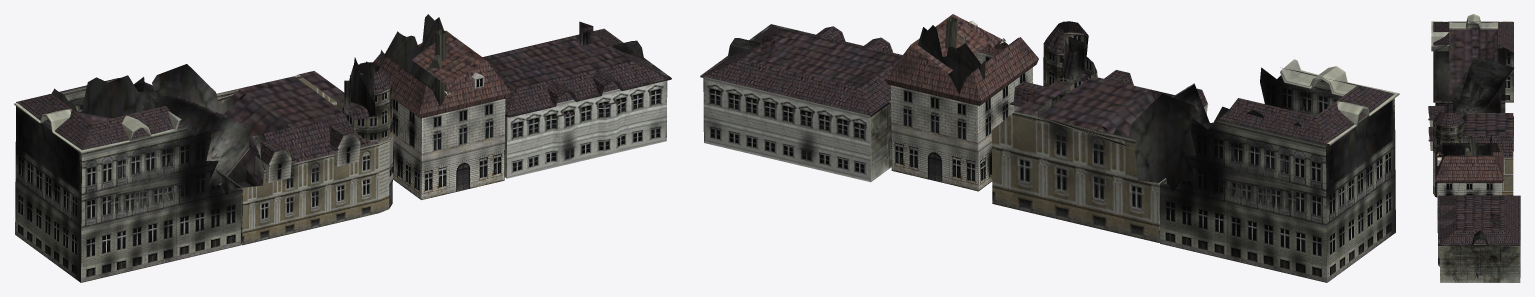
File: Ruin_CityBlock_06.fbx
3 renders of one model, left to right at view 1: azimuth 30°, elevation 25°; view 2: azimuth 150°, elevation 25°; view 3: azimuth 270°, elevation 25°, orthographic. The views are drawn at different scales.
Parts seen in each view (by area): view 1: Ruin_CityBlock_06_Part0_destroyed_cityblock01c; view 2: Ruin_CityBlock_06_Part0_destroyed_cityblock01c; view 3: Ruin_CityBlock_06_Part0_destroyed_cityblock01c.
Boxes of the visible parts, box(x1,y1,x2,y2) form: Ruin_CityBlock_06_Part0_destroyed_cityblock01c: box(14, 14, 671, 282); Ruin_CityBlock_06_Part0_destroyed_cityblock01c: box(700, 14, 1399, 282); Ruin_CityBlock_06_Part0_destroyed_cityblock01c: box(1428, 14, 1520, 282).
Size of the model in its own units: 4.1 by 0.9916 by 0.8981.
